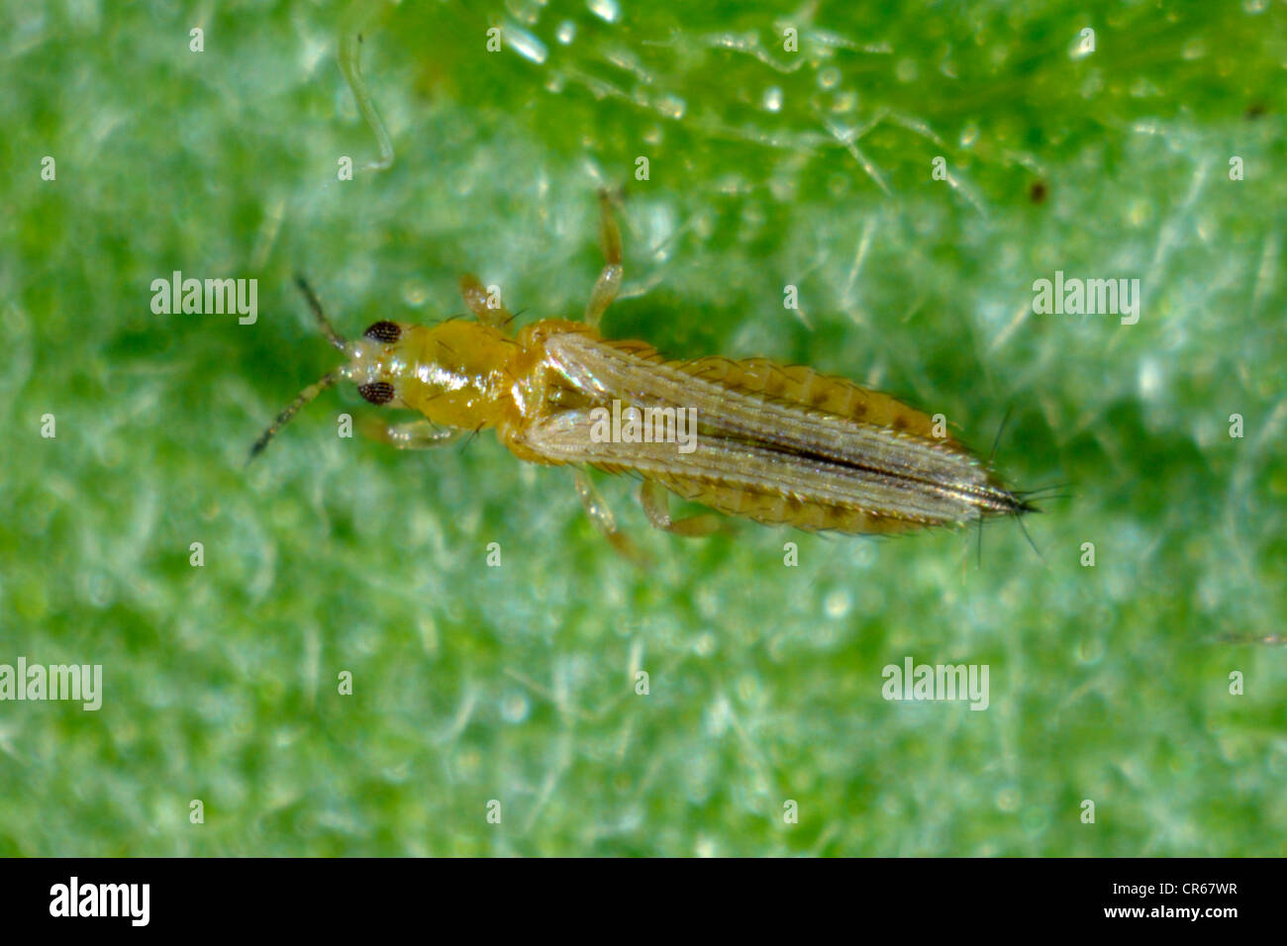Thripidae: (233, 193, 1082, 579)
